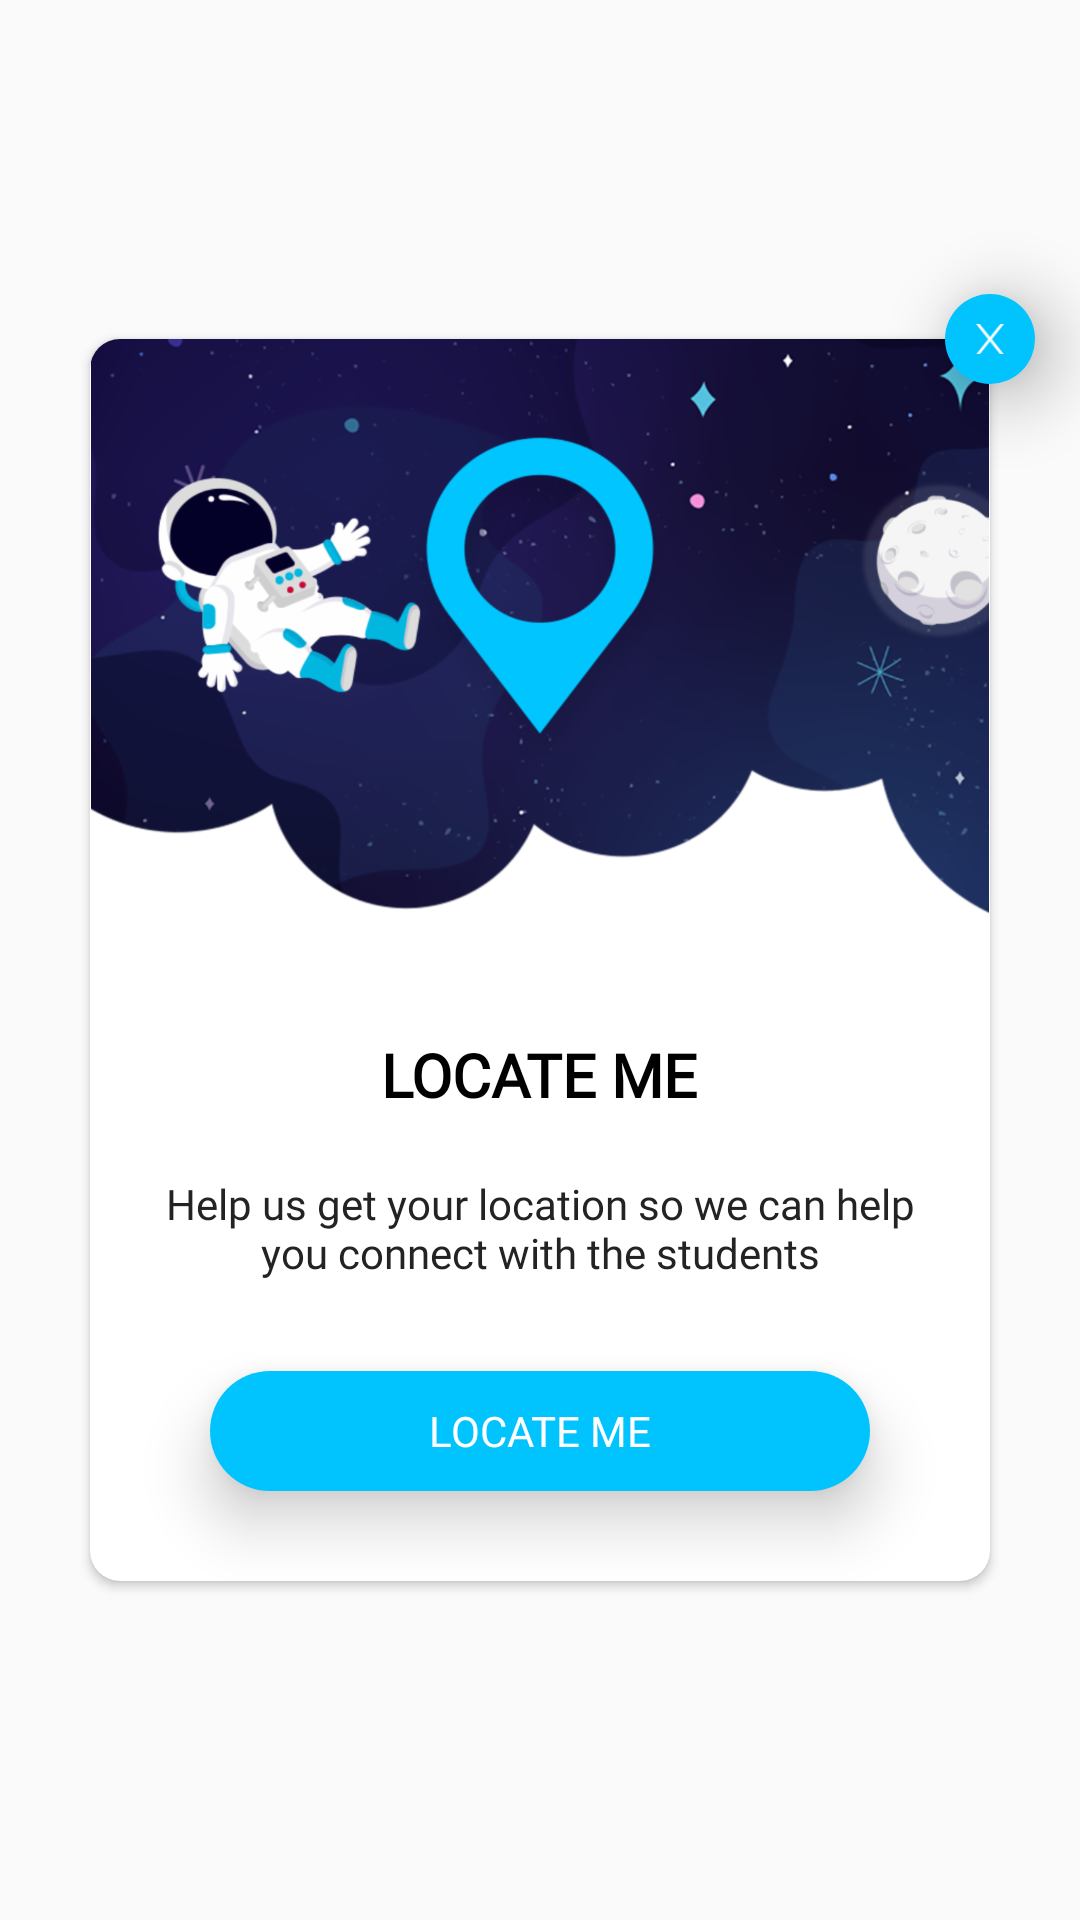

Icon click points for this 1080×1920 phone screenshot, format (x=x, y=y):
corss: (x=990, y=339)
